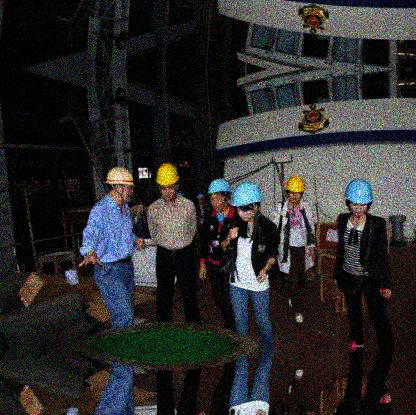helmet: (101, 165, 138, 205), (231, 181, 263, 224), (344, 178, 374, 217), (155, 163, 181, 201), (205, 178, 231, 211), (285, 176, 306, 203), (196, 193, 204, 204)
